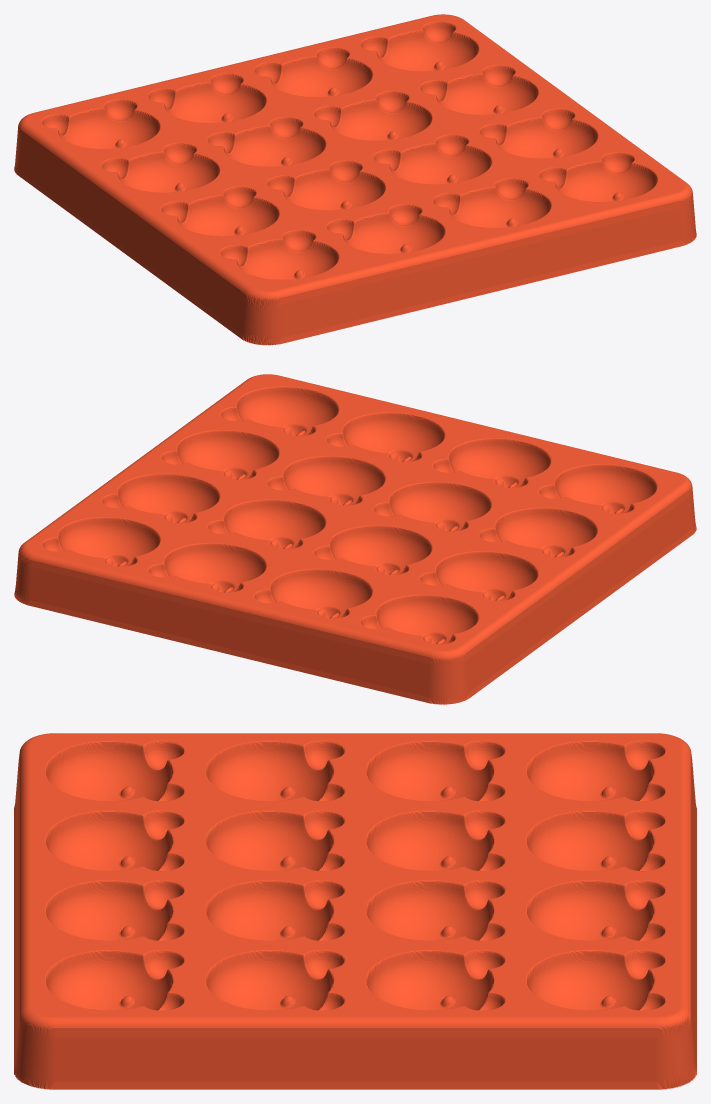
The model's file is mold.glb.
3 renders of one model, top to bottom at view 1: azimuth 30°, elevation 25°; view 2: azimuth 150°, elevation 25°; view 3: azimuth 270°, elevation 25°, orthographic. The views are drawn at different scales.
Parts seen in each view (by area): view 1: geometry_0; view 2: geometry_0; view 3: geometry_0.
Part boxes in pixels (x1,y1,x2,y2): geometry_0: [14, 14, 696, 345]; geometry_0: [14, 374, 696, 704]; geometry_0: [14, 733, 696, 1089].
Bounding box in the file's own units: 0.1538 × 0.0159 × 0.1496.
